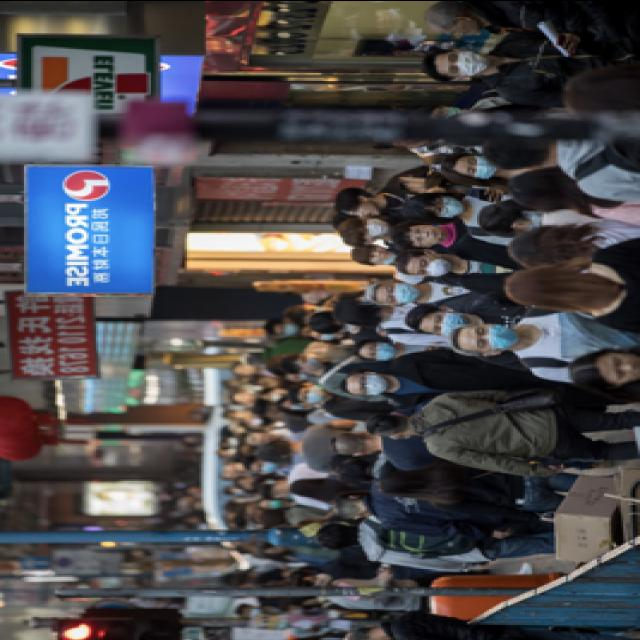mask: (470, 324, 518, 351), (443, 48, 489, 75), (427, 308, 467, 334), (463, 153, 501, 180), (412, 253, 450, 277), (352, 371, 390, 395), (379, 280, 419, 302), (432, 194, 462, 218), (357, 214, 388, 237), (364, 341, 393, 360), (297, 354, 321, 372), (300, 386, 326, 402), (274, 320, 300, 334), (252, 458, 276, 473), (309, 571, 331, 587), (432, 105, 461, 116), (262, 498, 280, 508)
no_mask: (592, 352, 638, 382), (408, 226, 442, 247), (441, 21, 479, 34), (348, 200, 377, 216), (369, 244, 393, 262)
